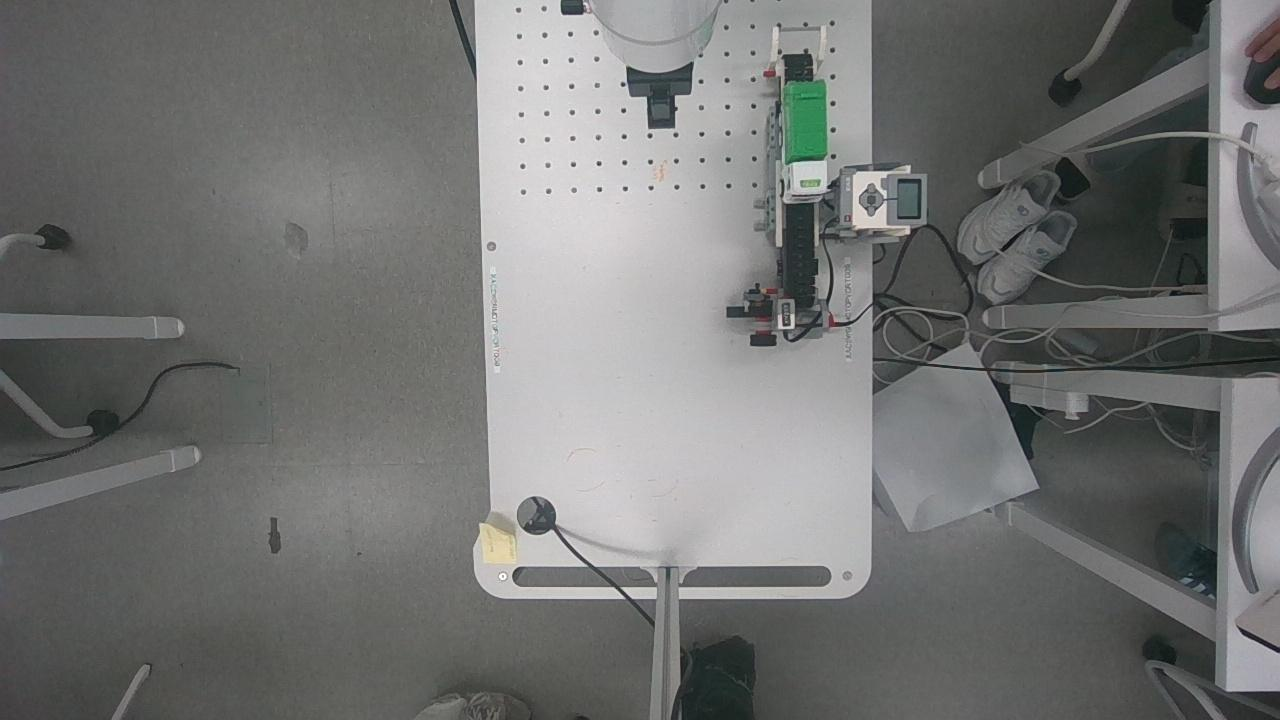truck: (770, 74, 837, 208)
